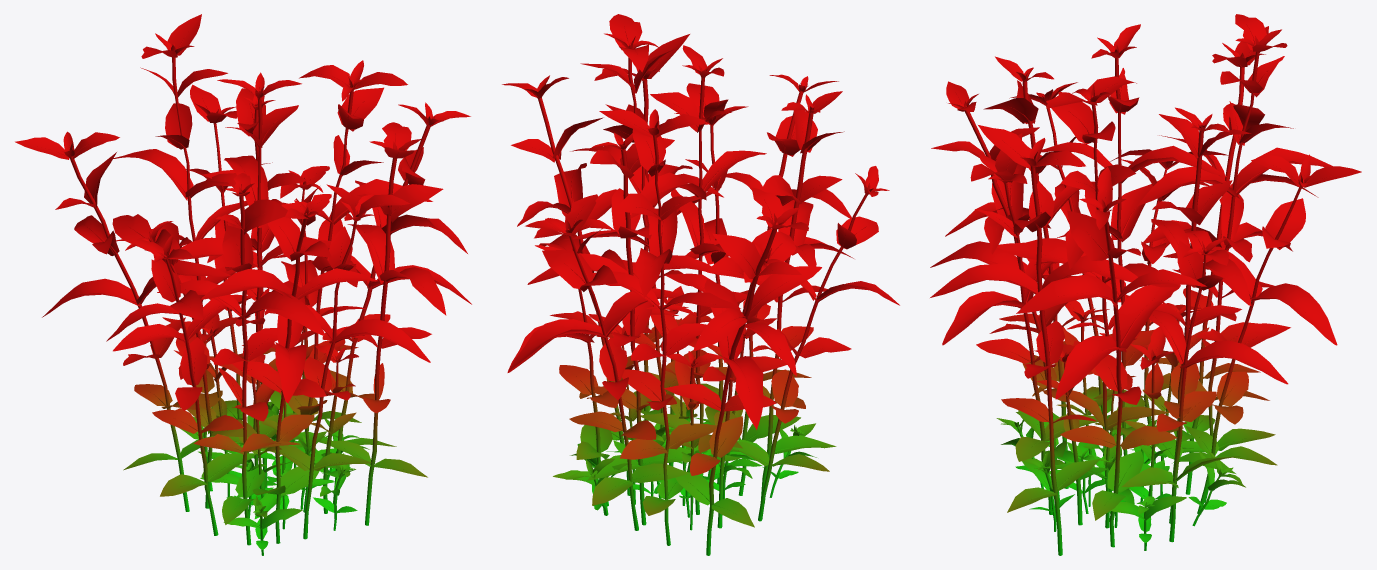
Rendered from Var2_LOD1.fbx.
3 views of the same model, side by side, from view 1: azimuth 30°, elevation 25°; view 2: azimuth 150°, elevation 25°; view 3: azimuth 270°, elevation 25° (orthographic). The views are drawn at different scales.
Visible parts, largest first — view 1: _qtsv_Var2_LOD1; view 2: _qtsv_Var2_LOD1; view 3: _qtsv_Var2_LOD1.
Boxes of the visible parts, bbox=[...] form: _qtsv_Var2_LOD1: bbox=[15, 14, 471, 555]; _qtsv_Var2_LOD1: bbox=[502, 14, 899, 555]; _qtsv_Var2_LOD1: bbox=[930, 14, 1361, 555].
Size of the model in its own units: 48.04 by 54.68 by 44.97.
